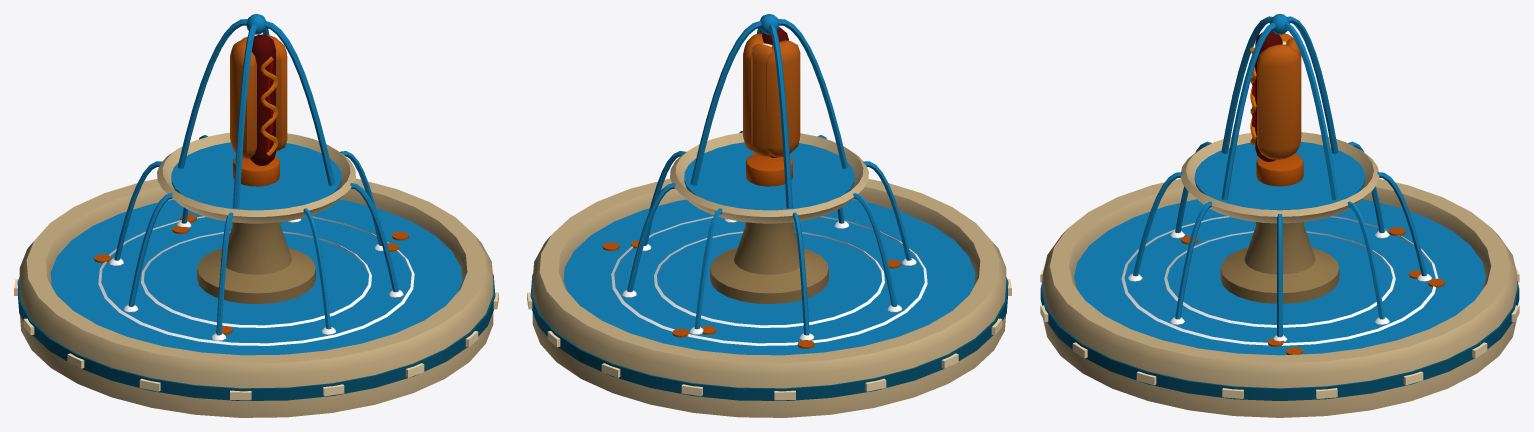
The model's file is Fountain.obj.
3 views of the same model, side by side, from view 1: azimuth 30°, elevation 25°; view 2: azimuth 150°, elevation 25°; view 3: azimuth 270°, elevation 25° (orthographic).
Visible parts, largest first — view 1: Fountain; view 2: Fountain; view 3: Fountain.
Part boxes in pixels (x1,y1,x2,y2): Fountain: [14, 14, 498, 417]; Fountain: [527, 14, 1011, 417]; Fountain: [1040, 14, 1519, 417].
Bounding box in the file's own units: 10.09 × 7.04 × 10.09.
